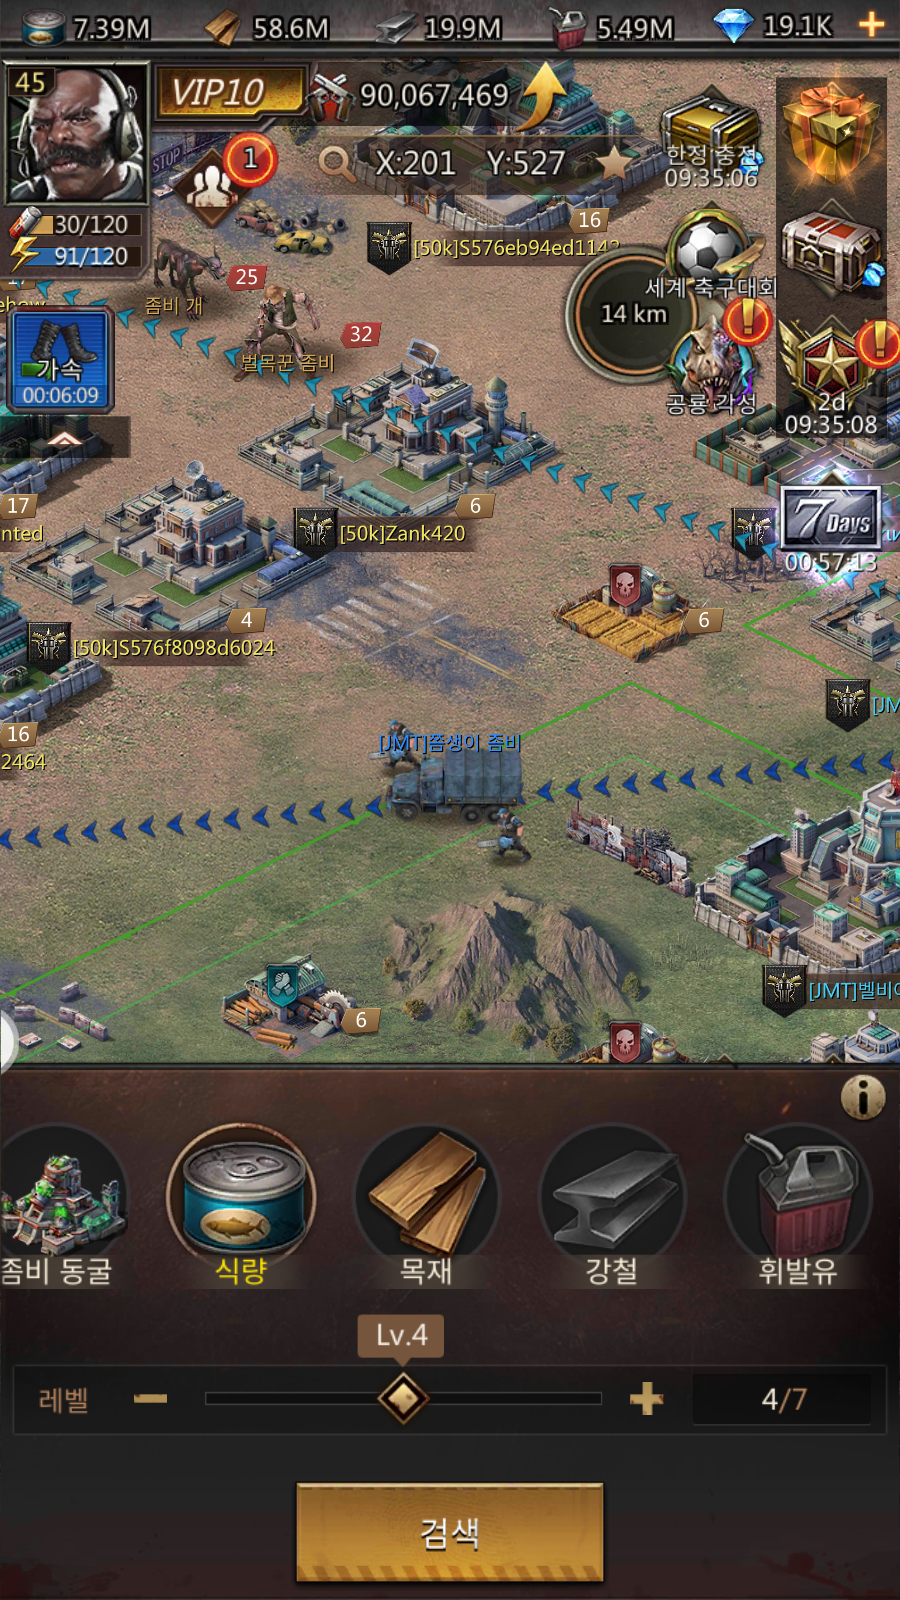rss_food_in_panel: (161, 1122, 324, 1298)
rss_gas_in_panel: (719, 1122, 878, 1300)
rss_lv4: (353, 1315, 446, 1357)
rss_minus_in_panel: (124, 1371, 178, 1424)
rss_plus_in_panel: (619, 1368, 675, 1429)
rss_search_in_panel: (298, 1485, 603, 1580)
rss_steel_in_panel: (536, 1120, 688, 1298)
rss_wood_in_panel: (354, 1125, 503, 1291)
troops_cnt_1: (164, 124, 292, 241)
